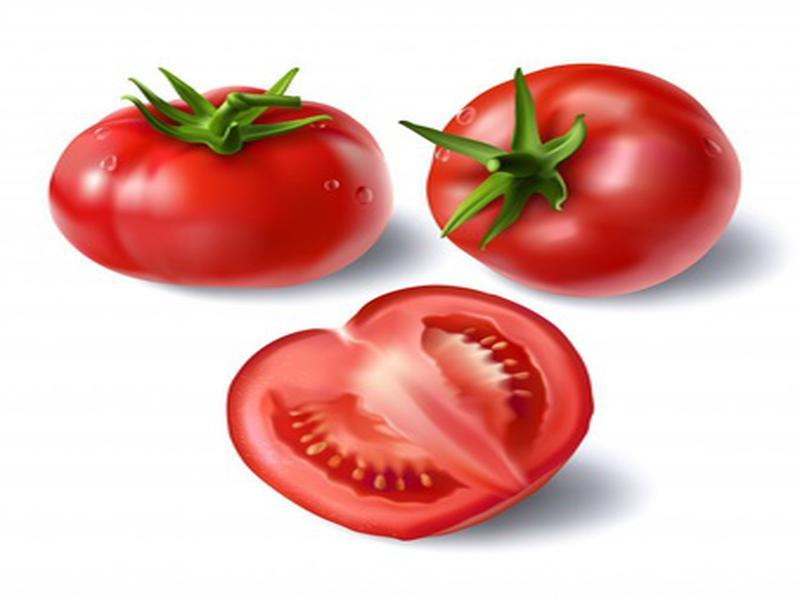full_tomato: (393, 54, 783, 319), (41, 55, 413, 296)
half_tomato: (200, 288, 632, 544)
